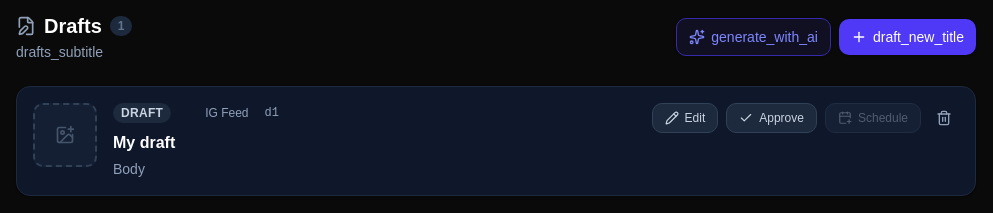
Test: DraftsRoute › toggles approval via updatePostStatus and updates the row
Expected: the text "My draft" is shown, [113,134,175,151]
Click the button "Approve". click: coordinates (772, 118)
box: [726,103,817,133]
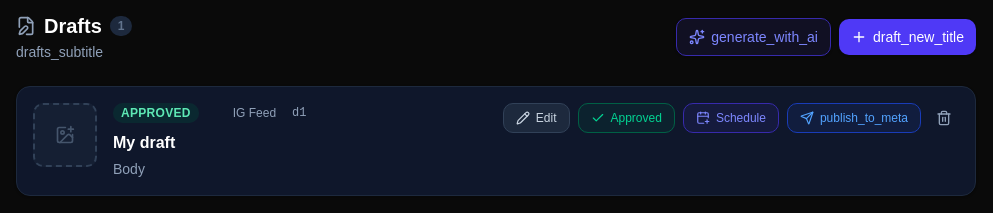
Now the button "Approved" is shown, box [578,103,675,133]
